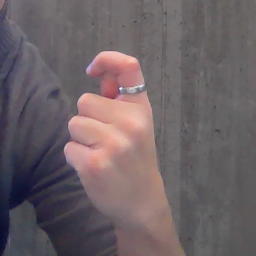T: (59, 48, 171, 207)
